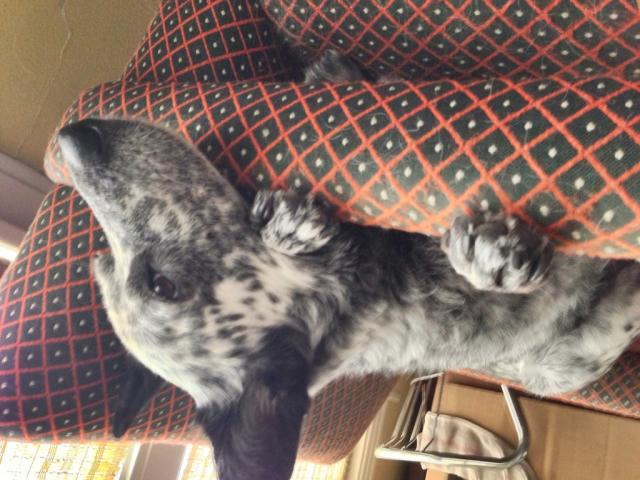Dog: (55, 117, 640, 480)
